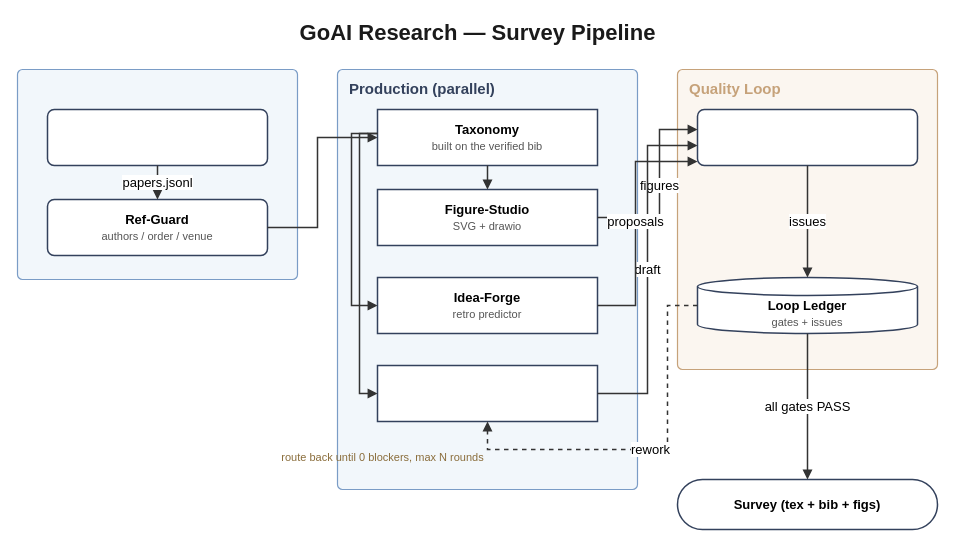
Image size: 956x547. Some labels were removed from this diagram. The box of each missing label's shape, as (x1, y1, x2, y2) in pixels:
Discovery: (16, 68, 298, 280)
Lit-Search 5 sources + snowball: (46, 108, 268, 166)
Reviewer cross-model, adversarial: (696, 108, 918, 166)
Survey-Writer claim-cite bound: (376, 364, 598, 422)
